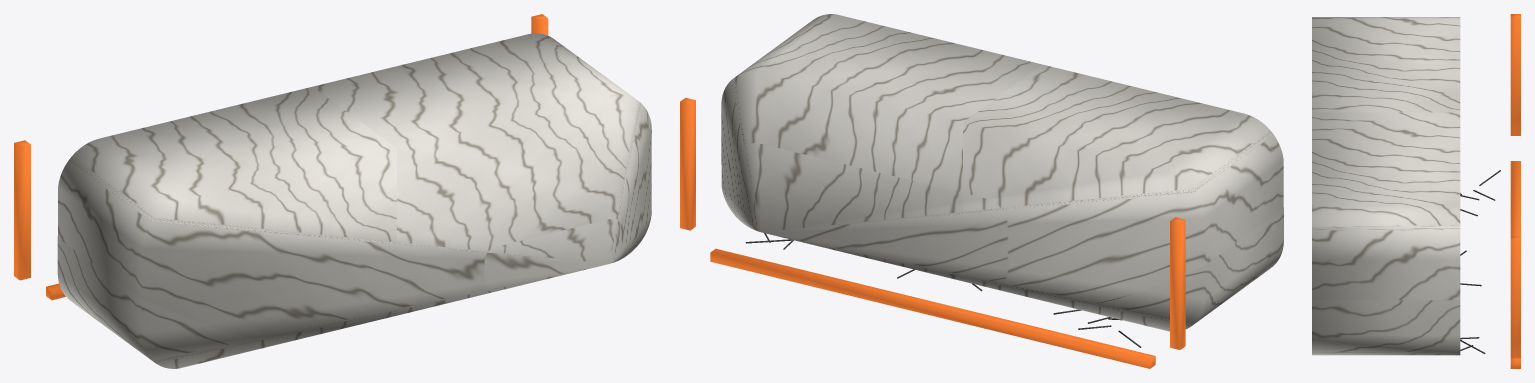
The model's file is RECEPTION_DESK_MARBLE_HERO_001.glb.
3 renders of one model, left to right at view 1: azimuth 30°, elevation 25°; view 2: azimuth 150°, elevation 25°; view 3: azimuth 270°, elevation 25°, orthographic. The views are drawn at different scales.
Visible parts, largest first — view 1: curved_marble_body_000, underglow_left_003; view 2: curved_marble_body_000, underglow_front_002, underglow_right_004, underglow_left_003; view 3: curved_marble_body_000, underglow_right_004, underglow_left_003, underglow_front_002.
Part boxes in pixels (x1=…): curved_marble_body_000: x1=57, y1=33, x2=651, y2=368; underglow_left_003: x1=14, y1=140, x2=30, y2=280; curved_marble_body_000: x1=721, y1=14, x2=1283, y2=331; underglow_front_002: x1=710, y1=248, x2=1155, y2=368; underglow_right_004: x1=680, y1=97, x2=695, y2=230; underglow_left_003: x1=1170, y1=217, x2=1185, y2=349; curved_marble_body_000: x1=1312, y1=17, x2=1460, y2=355; underglow_right_004: x1=1510, y1=236, x2=1520, y2=358; underglow_left_003: x1=1510, y1=14, x2=1520, y2=135; underglow_front_002: x1=1510, y1=161, x2=1520, y2=368.
Bounding box in the file's own units: 2.9 × 0.935 × 1.13.
5 materials, 5 textured.
